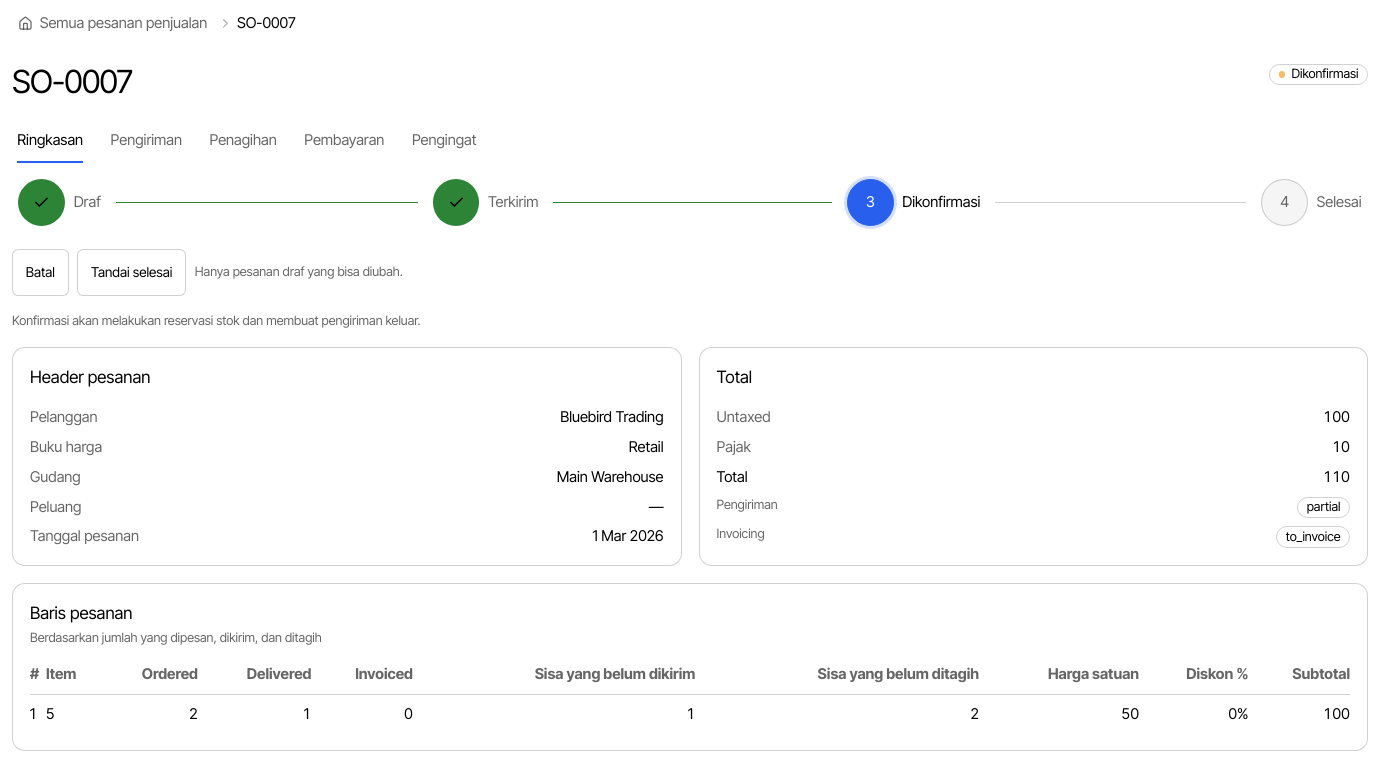
Test: SaleOrderDetail › switches to the invoicing tab on selection
Click the tab "Penagihan". click: (243, 141)
box: [208, 117, 278, 164]
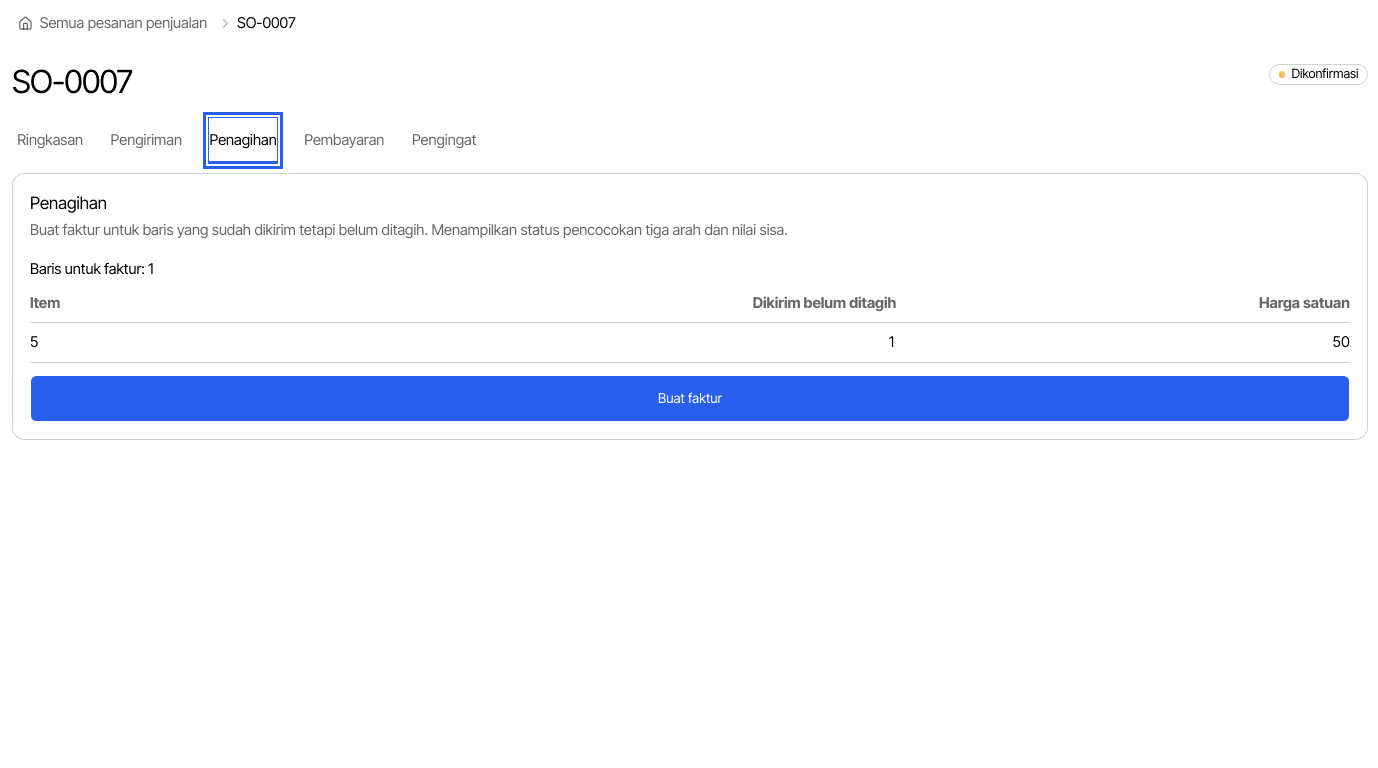
Now the button "Buat faktur" is shown, box [30, 375, 1350, 422]
